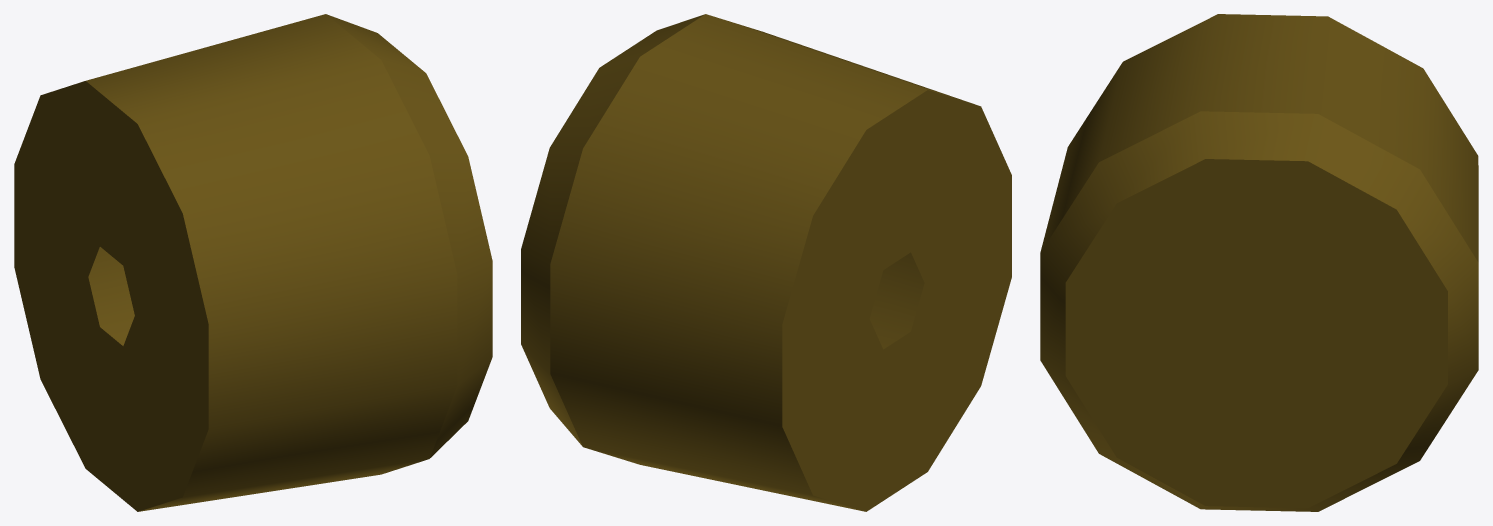
File: original-25.obj
The picture shows the model from 3 angles, left to right: view 1: azimuth 30°, elevation 25°; view 2: azimuth 150°, elevation 25°; view 3: azimuth 270°, elevation 25°; orthographic projection. The views are drawn at different scales.
Parts seen in each view (by area): view 1: #ID70; view 2: #ID70; view 3: #ID70.
Boxes of the visible parts, x1,y1,x2,y2 form: #ID70: (14, 14, 492, 511); #ID70: (521, 14, 1011, 511); #ID70: (1040, 14, 1478, 511).
Size of the model in its own units: 0.0324 by 0.0427 by 0.0426.
